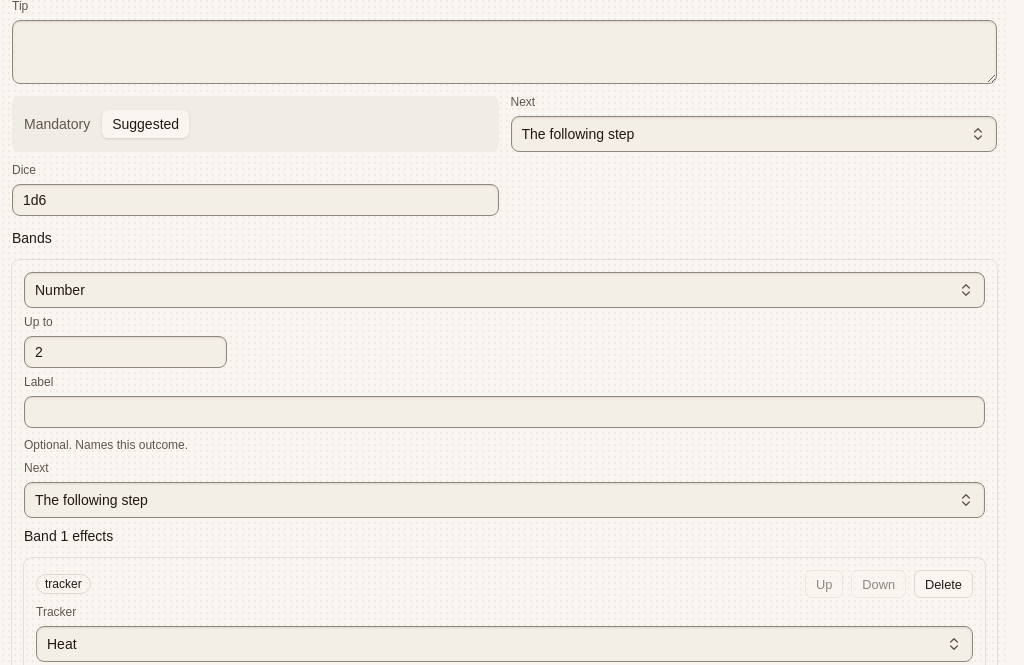
the step list editor › flags limits that do not increase, without blocking anything
(page scrolled)
Click the field labelled "Up to": (126, 352) [24,336,227,368]
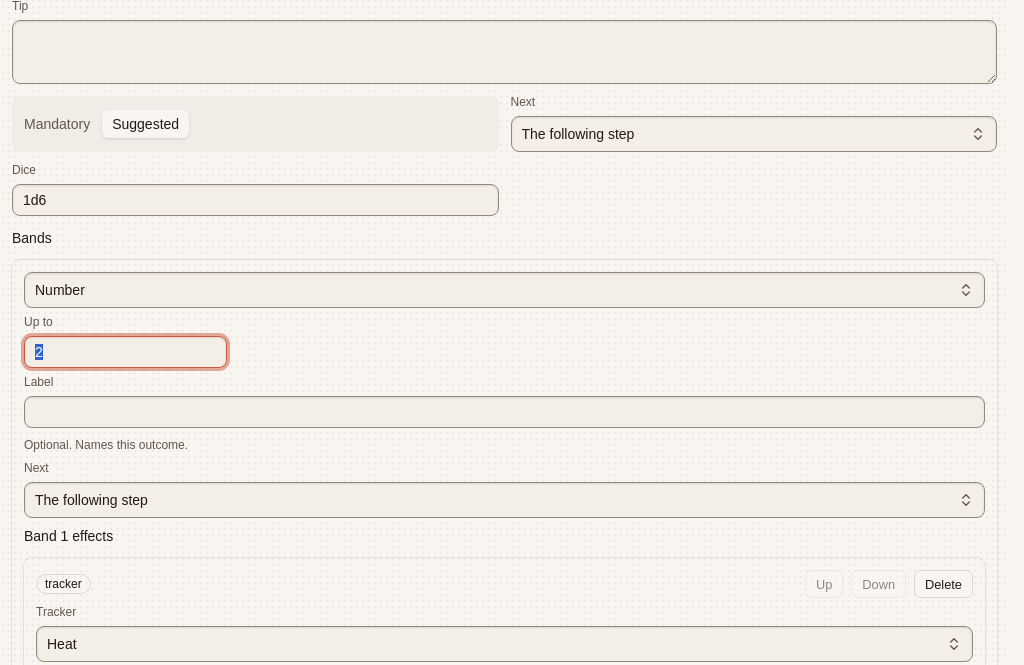
Type keys "5"
(page scrolled)
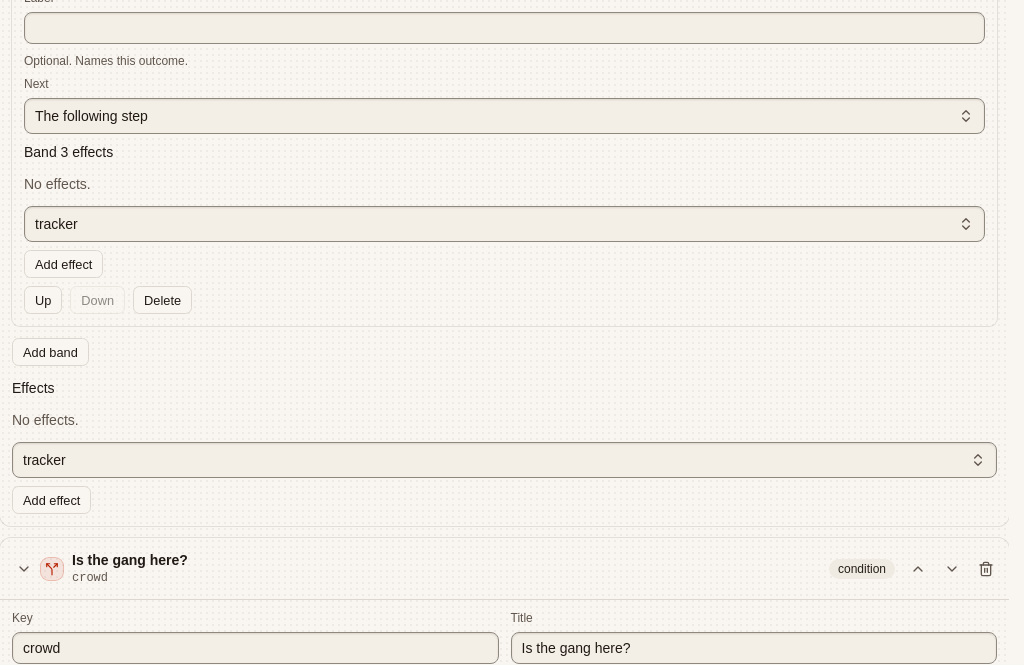
Click the button "Add band": (50, 352) [12,338,89,366]
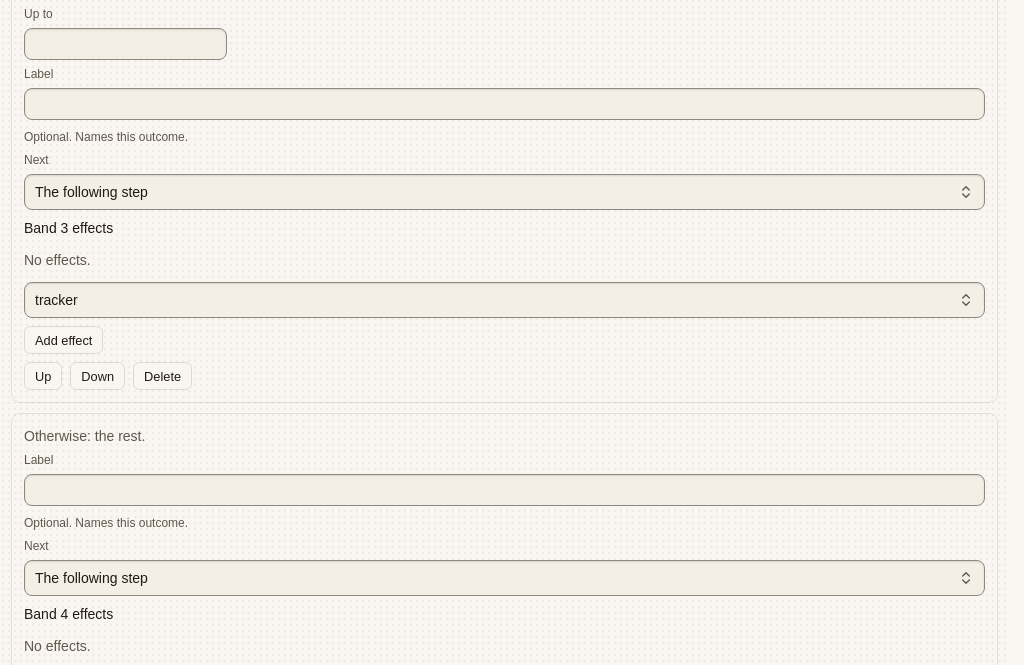
In the field labelled "Up to": (126, 44) [24,28,227,60], type "3"
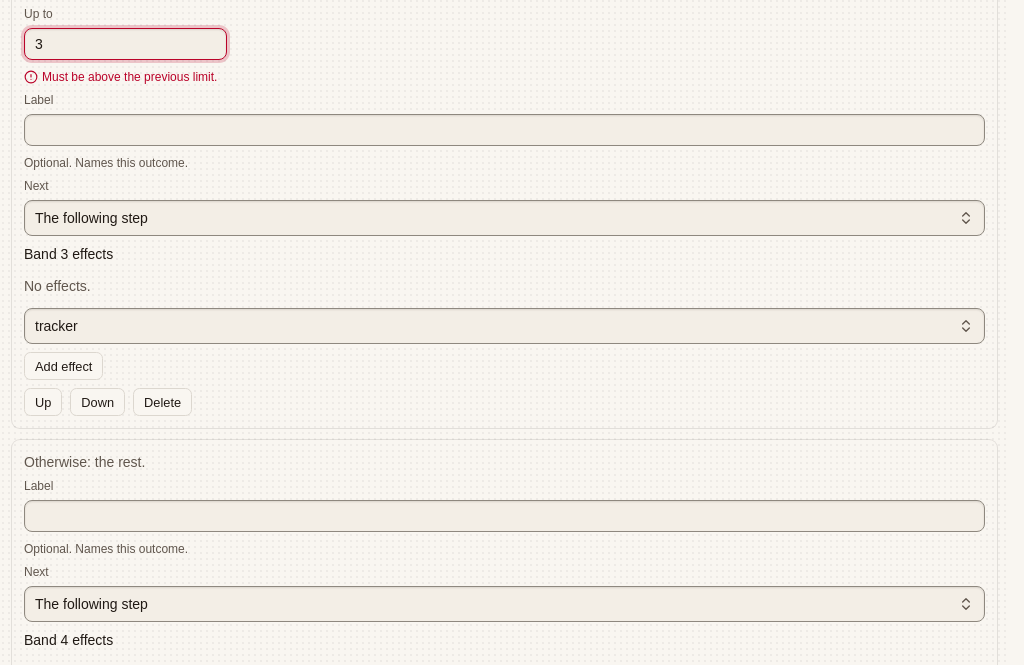
Check: the text "Must be above the previous limit." is shown, box [24,68,227,86]
